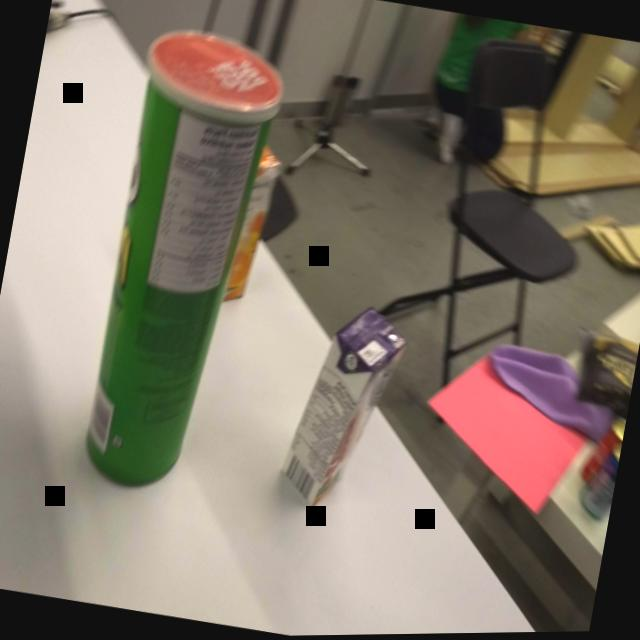grape_juice: (269, 291, 417, 528)
pringles: (68, 17, 297, 507)
